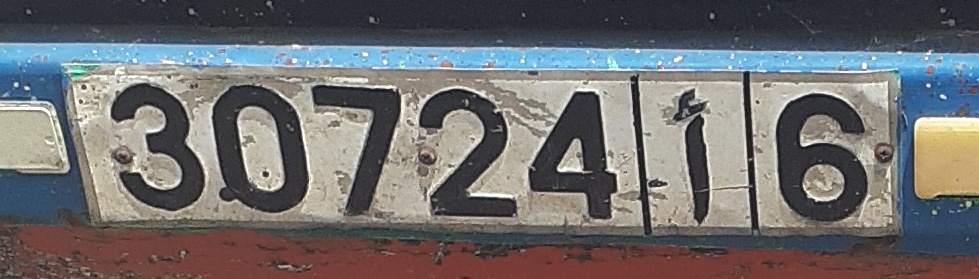0: (214, 78, 315, 221)
2: (417, 77, 520, 217)
3: (101, 80, 211, 217)
4: (521, 84, 622, 220)
6: (771, 85, 884, 225)
7: (310, 75, 407, 223)
a: (663, 80, 731, 224)
